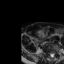CCS_normal: (51, 52, 52, 59)
LFS_stenosis: (54, 50, 56, 56)
LLS_normal: (52, 51, 54, 58)
RFS_stenosis: (47, 50, 49, 55)
RLS_normal: (49, 51, 51, 57)
